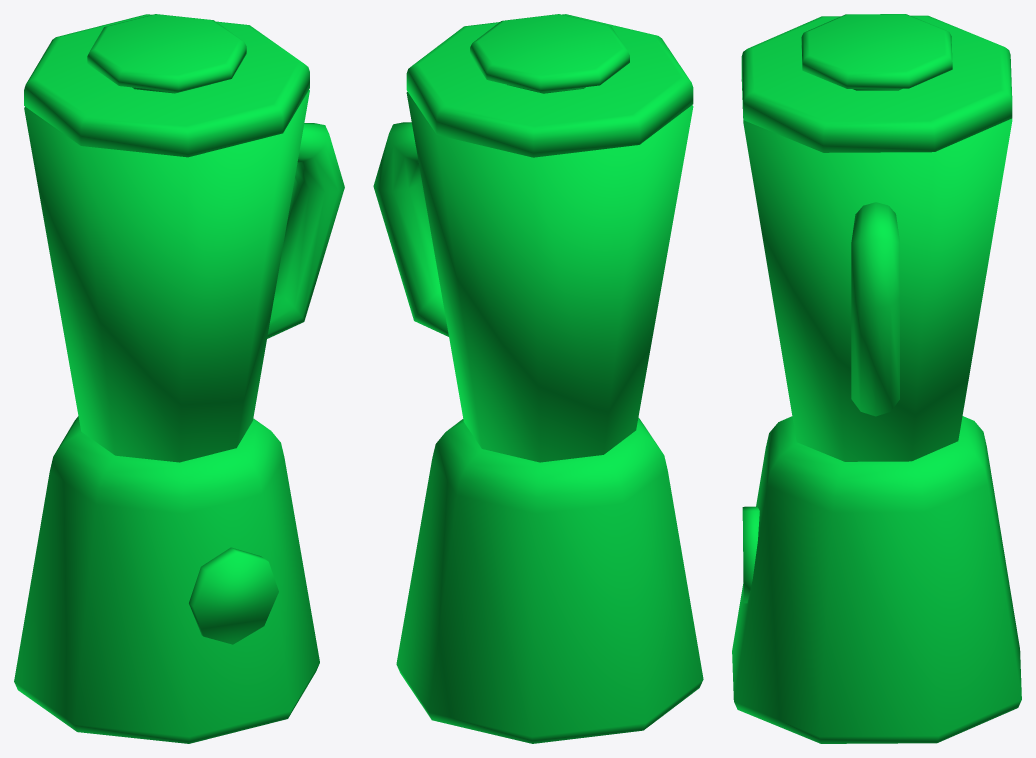
File: liquidificador.fbx
3 views of the same model, side by side, from view 1: azimuth 30°, elevation 25°; view 2: azimuth 150°, elevation 25°; view 3: azimuth 270°, elevation 25° (orthographic).
Visible parts, largest first — view 1: Liquidificador; view 2: Liquidificador; view 3: Liquidificador.
Boxes of the visible parts, left/top/right/bottom form: Liquidificador: left=14, top=14, right=344, bottom=743; Liquidificador: left=373, top=14, right=703, bottom=743; Liquidificador: left=732, top=14, right=1021, bottom=743.
Size of the model in its own units: 66.79 by 137 by 55.74.
